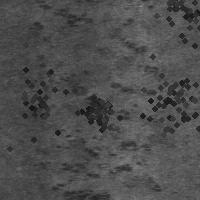rolled-in_scale: (52, 109, 167, 198), (0, 49, 84, 143), (32, 2, 97, 106), (127, 55, 200, 141), (109, 1, 163, 96), (138, 0, 200, 60), (74, 86, 120, 132)
